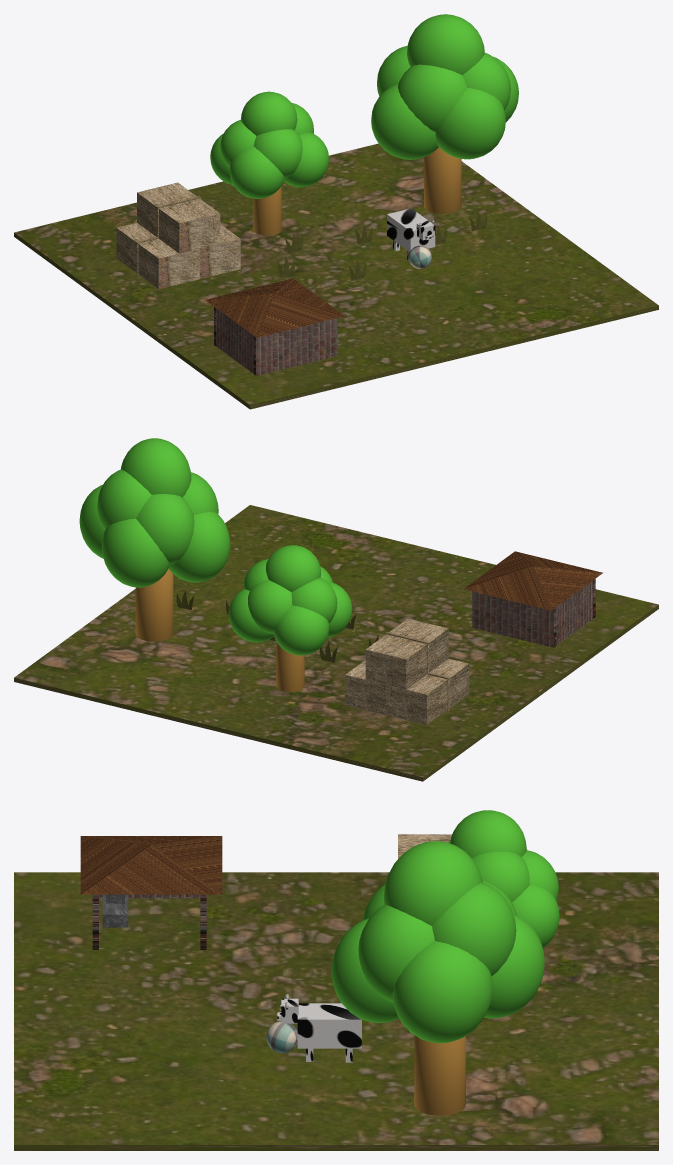
The picture shows the model from 3 angles, top to bottom: view 1: azimuth 30°, elevation 25°; view 2: azimuth 150°, elevation 25°; view 3: azimuth 270°, elevation 25°; orthographic projection. The views are drawn at different scales.
Parts seen in each view (by area): view 1: Cube, Cylinder.001, Plane.001, Sphere.005, Plane.010, Plane.008, Cylinder, Cylinder.004, Plane.009, Cylinder.002; view 2: Cube, Cylinder.001, Sphere.005, Plane.001, Plane.010, Plane.007, Cylinder, Plane.009, Cylinder.002; view 3: Cube, Cylinder.001, Plane.010, Sphere.005, Cylinder, Cylinder.004, Cube.001, Sphere, Plane.001.
Part boxes in pixels (x1,y1,x2,y2): Cube: (14,143,658,409); Cylinder.001: (371,14,518,159); Plane.001: (116,182,240,288); Sphere.005: (210,91,328,198); Plane.010: (205,278,344,337); Plane.008: (253,318,337,375); Cylinder: (424,147,461,213); Cylinder.004: (387,208,435,260); Plane.009: (216,308,253,373); Cylinder.002: (253,186,281,235); Cube: (14,505,658,781); Cylinder.001: (79,438,230,587); Sphere.005: (228,545,352,655); Plane.001: (345,618,469,725); Plane.010: (463,551,602,610); Plane.007: (472,591,556,647); Cylinder: (135,569,173,641); Plane.009: (556,581,592,645); Cylinder.002: (276,641,304,691); Cube: (14,872,658,1150); Cylinder.001: (331,841,544,1043); Plane.010: (80,836,222,894); Sphere.005: (447,810,559,947); Cylinder: (414,1035,465,1115); Cylinder.004: (277,994,361,1062); Cube.001: (102,894,128,927); Sphere: (266,1021,297,1053); Plane.001: (398,834,451,858).
Size of the model in its own units: 0.1026 by 0.0466 by 0.1.
Materials: 10 (7 with a texture image).
